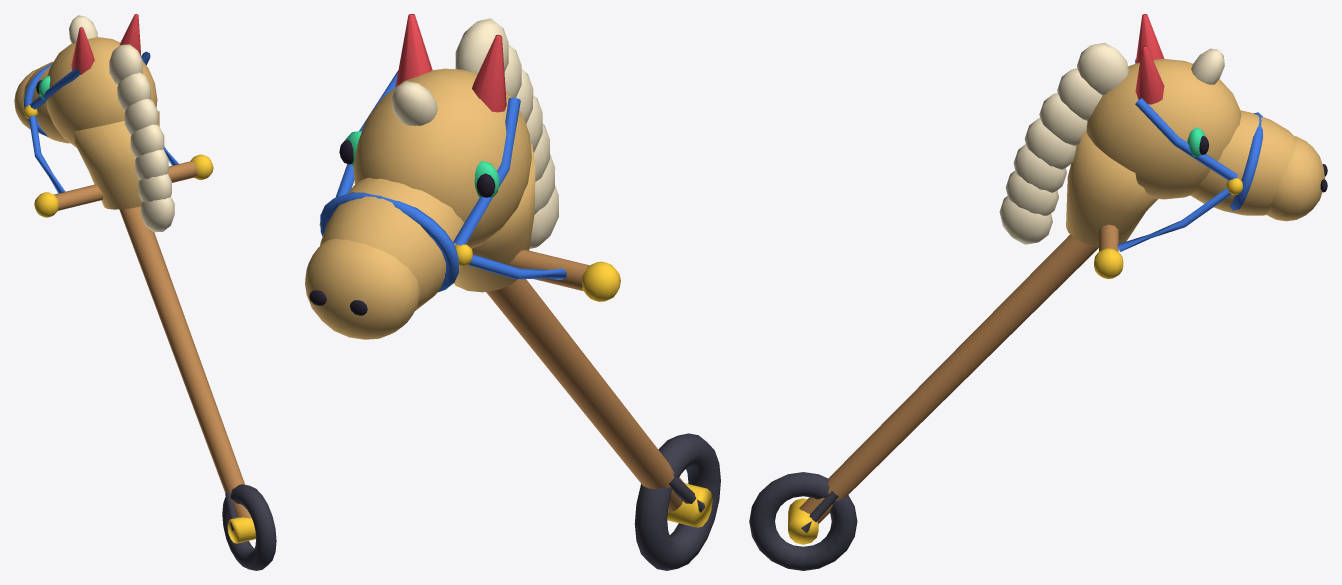
Rendered from RockinRacewayHorse.obj.
3 renders of one model, left to right at view 1: azimuth 30°, elevation 25°; view 2: azimuth 150°, elevation 25°; view 3: azimuth 270°, elevation 25°, orthographic. The views are drawn at different scales.
Parts seen in each view (by area): view 1: Body, Stick, Mane, Wheel, Studs, Bridle, Ears; view 2: Body, Stick, Mane, Wheel, Bridle, Ears, Studs, Pupils, Eyes; view 3: Body, Mane, Stick, Wheel, Bridle, Studs, Ears.
Boxes of the visible parts, x1=… form: Body: x1=14, y1=37, x2=159, y2=209; Stick: x1=54, y1=161, x2=251, y2=518; Mane: x1=69, y1=15, x2=174, y2=232; Wheel: x1=222, y1=484, x2=276, y2=570; Studs: x1=23, y1=105, x2=255, y2=543; Bridle: x1=24, y1=51, x2=178, y2=193; Ears: x1=71, y1=14, x2=141, y2=74; Body: x1=305, y1=68, x2=535, y2=339; Stick: x1=486, y1=249, x2=684, y2=512; Mane: x1=391, y1=18, x2=558, y2=248; Wheel: x1=634, y1=433, x2=720, y2=570; Bridle: x1=320, y1=70, x2=566, y2=292; Ears: x1=395, y1=14, x2=506, y2=112; Studs: x1=319, y1=222, x2=712, y2=527; Pupils: x1=309, y1=140, x2=495, y2=315; Eyes: x1=345, y1=131, x2=499, y2=197; Body: x1=1066, y1=59, x2=1324, y2=247; Mane: x1=999, y1=43, x2=1224, y2=244; Stick: x1=799, y1=224, x2=1118, y2=523; Wheel: x1=749, y1=472, x2=857, y2=570; Bridle: x1=1117, y1=59, x2=1262, y2=251; Studs: x1=788, y1=178, x2=1242, y2=544; Ears: x1=1135, y1=14, x2=1164, y2=104.
Size of the model in its own units: 1.92 by 4.62 by 4.49.
